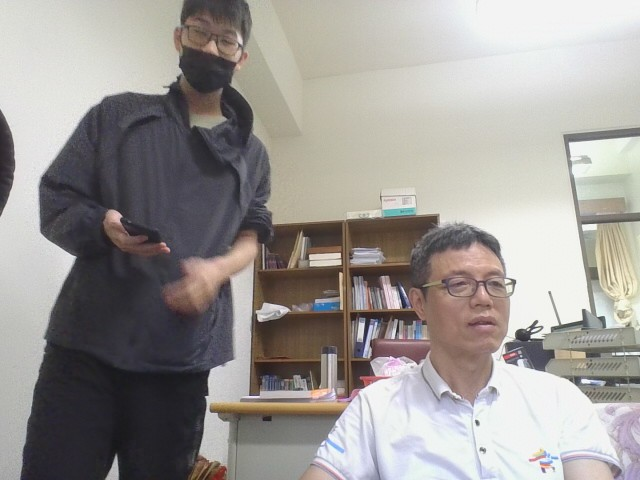No_Gloves: (159, 247, 232, 317), (100, 211, 171, 260)
No_Helmet: (404, 219, 519, 385), (169, 0, 255, 98)
person: (4, 3, 282, 479), (271, 203, 636, 480)
